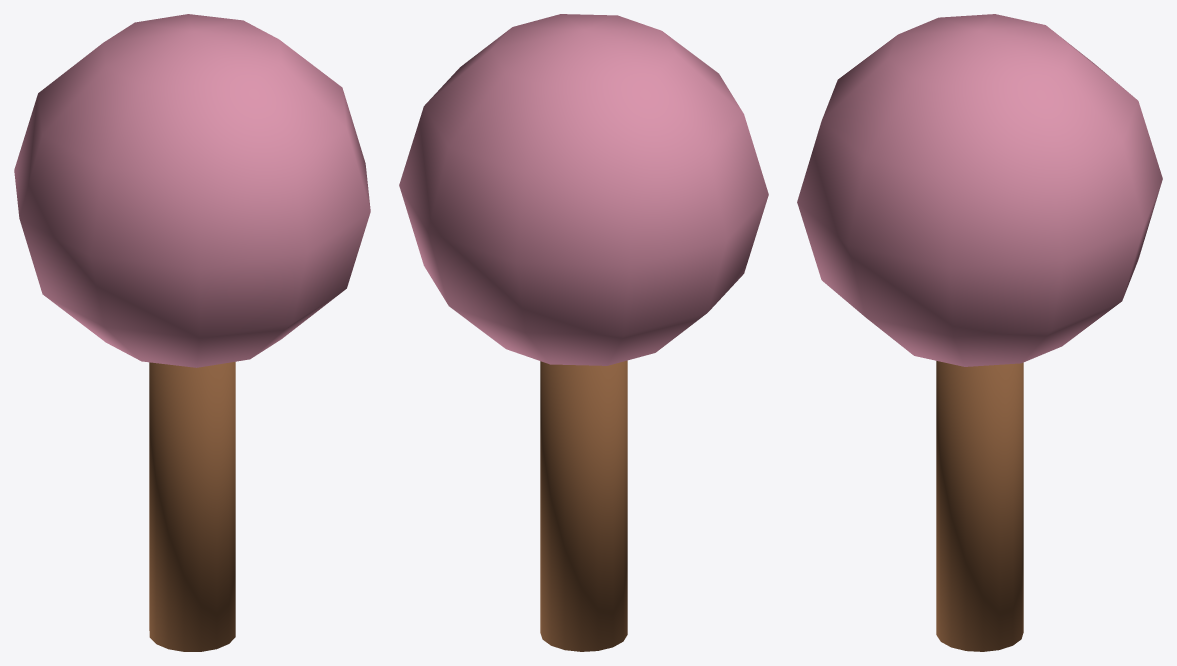
File: Tree.fbx
3 views of the same model, side by side, from view 1: azimuth 30°, elevation 25°; view 2: azimuth 150°, elevation 25°; view 3: azimuth 270°, elevation 25° (orthographic).
Parts seen in each view (by area): view 1: Tree; view 2: Tree; view 3: Tree.
Part boxes in pixels (bbox=[...]): Tree: bbox=[14, 14, 370, 651]; Tree: bbox=[399, 14, 768, 651]; Tree: bbox=[797, 14, 1162, 651].
Bounding box in the file's own units: 2.25 × 4.09 × 2.25.
